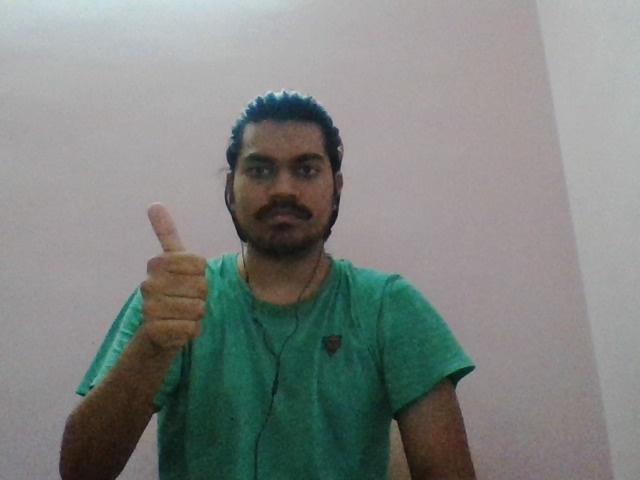ThumbsUp: (134, 200, 210, 349)
